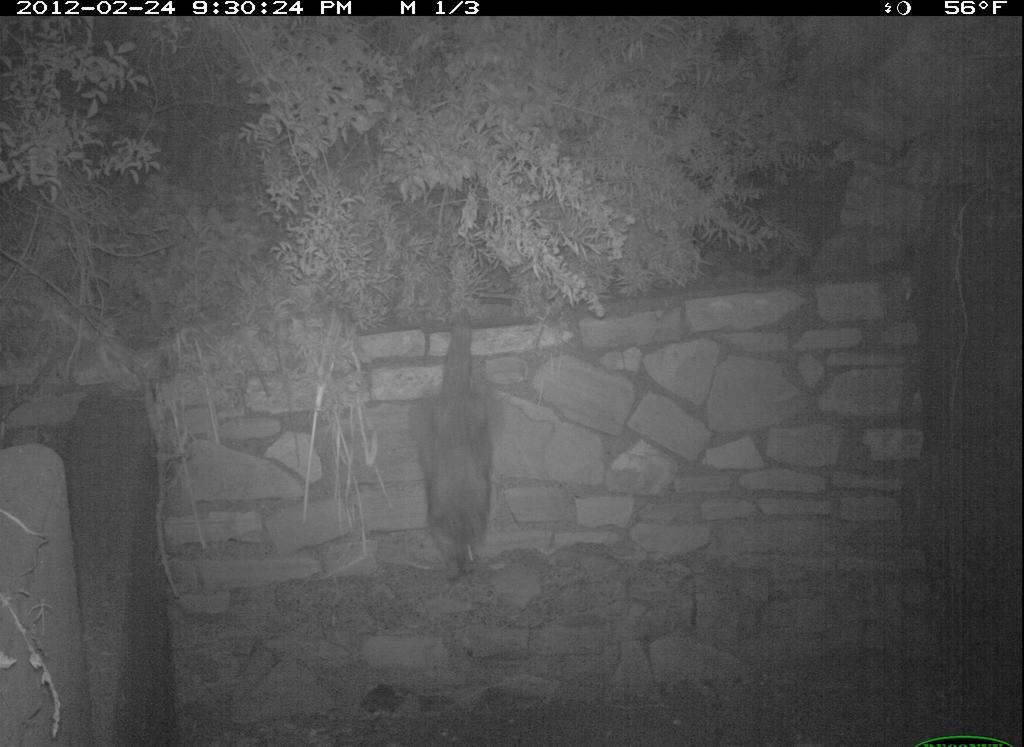raccoon: (401, 308, 519, 584)
